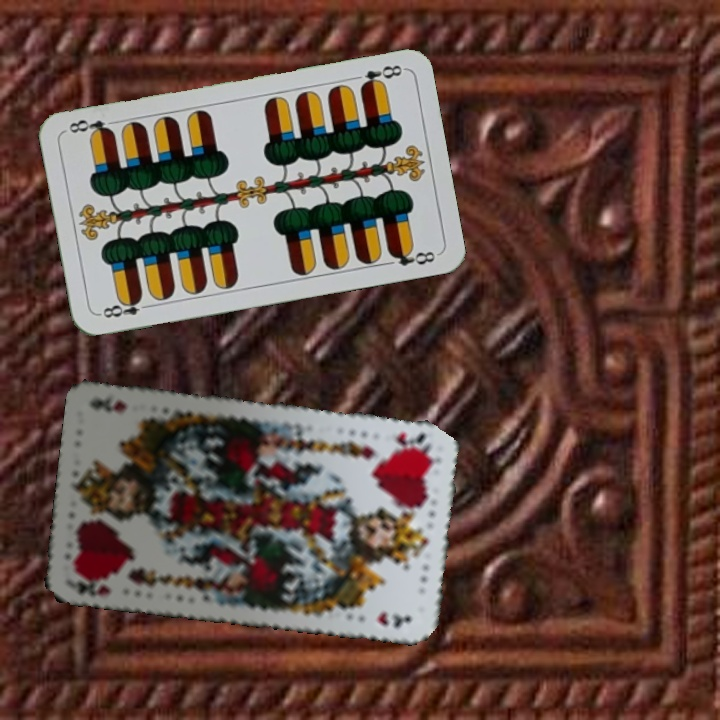E8: (95, 293, 154, 321), (356, 60, 405, 91)
HK: (69, 570, 112, 599), (391, 428, 433, 452)
